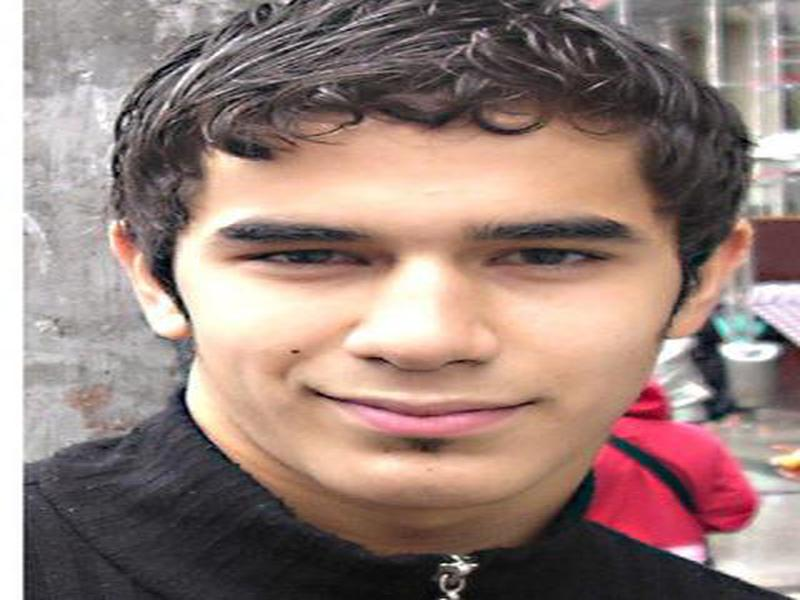without_mask: (174, 123, 685, 514)
